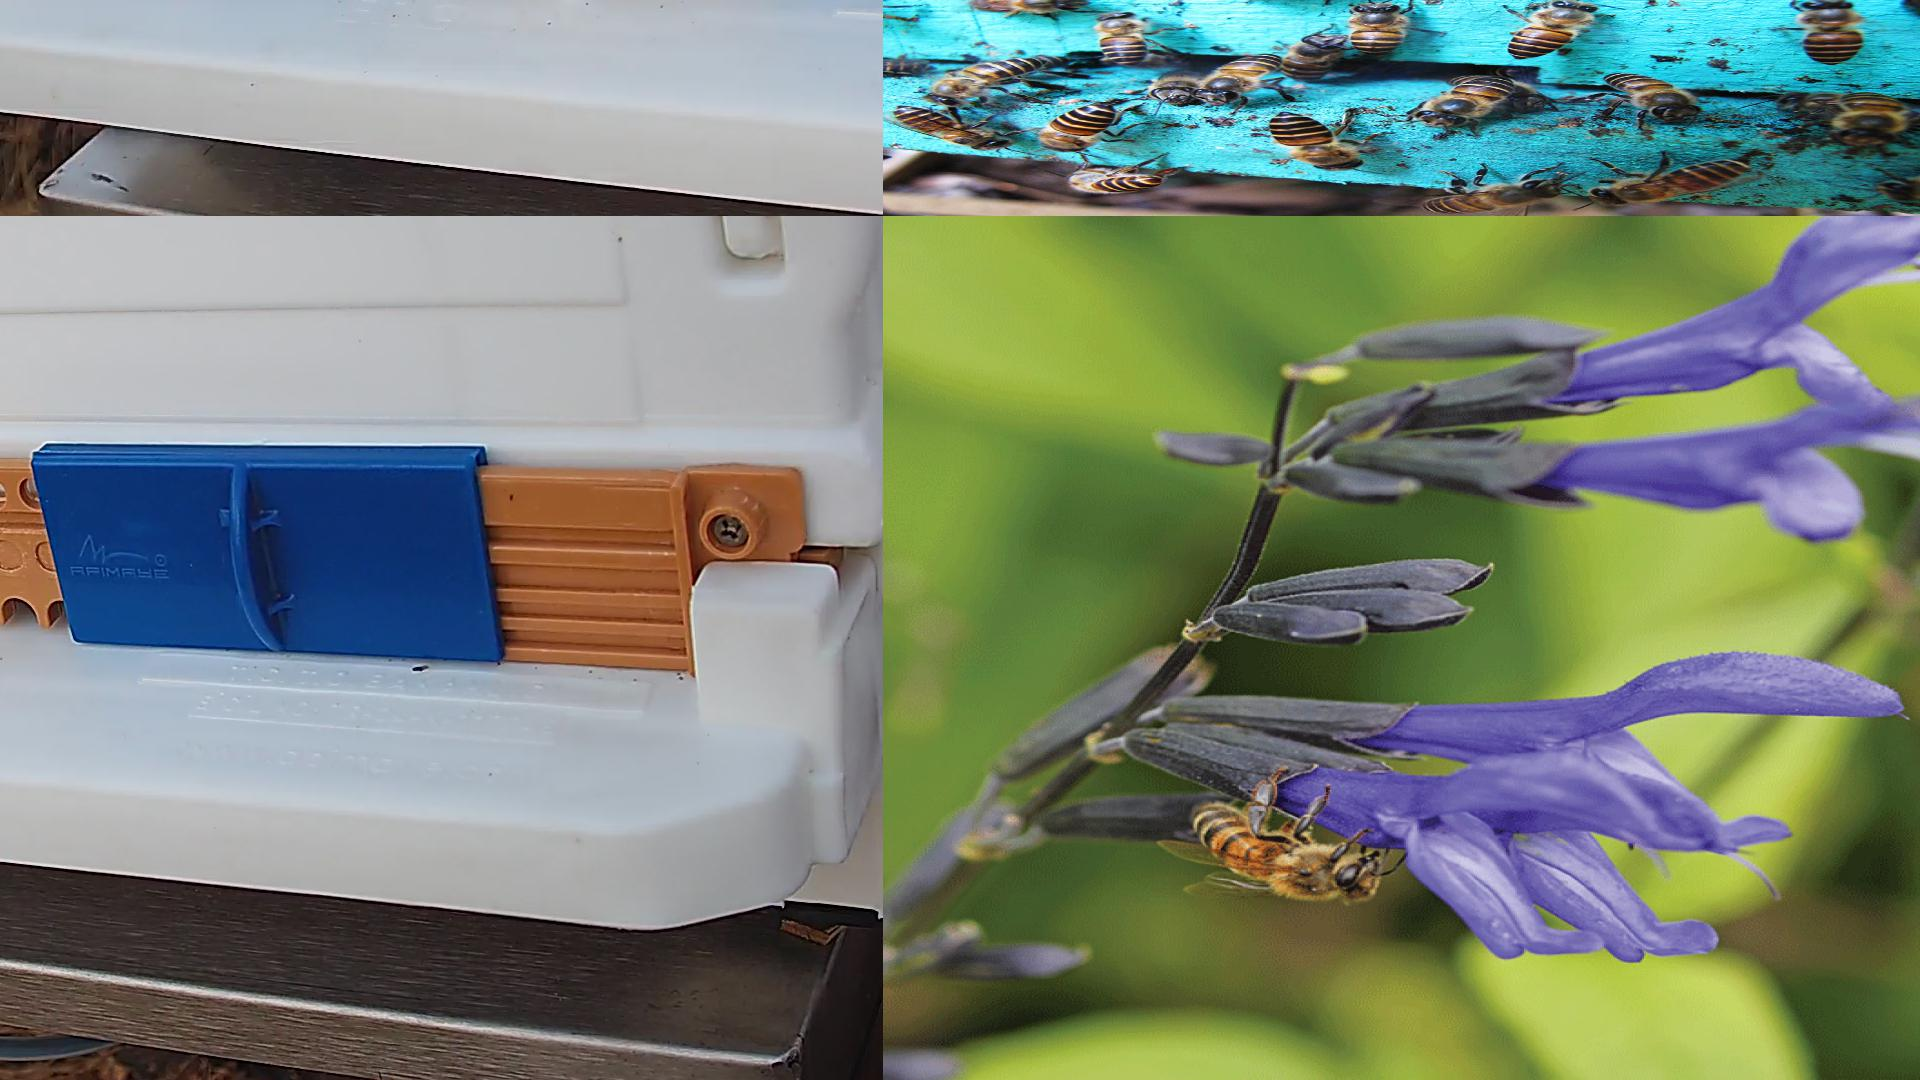bee: (1195, 803, 1379, 902), (1593, 160, 1751, 204), (1269, 112, 1364, 170), (928, 59, 1044, 105), (1507, 0, 1597, 59), (894, 105, 1010, 149), (1422, 76, 1514, 128), (1424, 179, 1560, 214), (1604, 74, 1701, 121), (1197, 53, 1282, 103), (1800, 1, 1862, 65), (1780, 94, 1920, 120), (1039, 104, 1114, 152), (1842, 94, 1908, 145), (1447, 76, 1548, 109), (1349, 3, 1406, 55), (1280, 34, 1346, 79), (1097, 12, 1149, 66), (947, 57, 1077, 78), (1065, 166, 1158, 194), (1153, 69, 1200, 105), (972, 0, 1089, 13), (1100, 53, 1193, 65), (1876, 177, 1919, 200), (1466, 61, 1524, 76), (884, 59, 938, 74)
